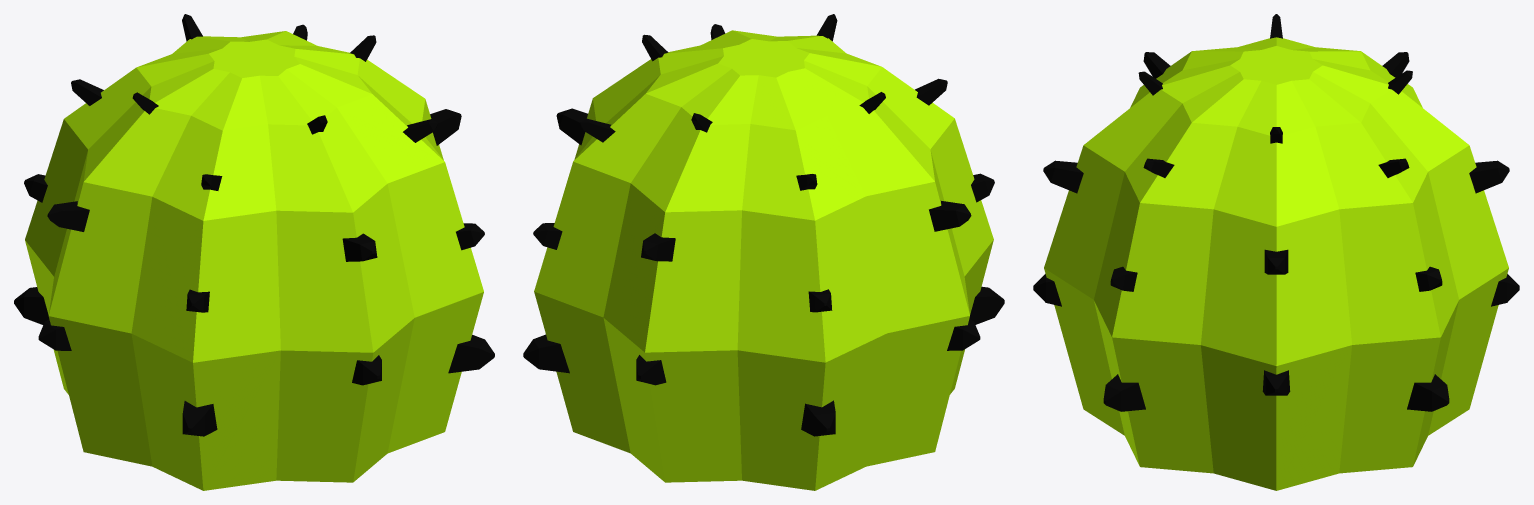
Rendered from Cardon06_00Brazos_Sin_Flor.fbx.
The picture shows the model from 3 angles, left to right: view 1: azimuth 30°, elevation 25°; view 2: azimuth 150°, elevation 25°; view 3: azimuth 270°, elevation 25°; orthographic projection. The views are drawn at different scales.
Parts seen in each view (by area): view 1: Cactus, Espinas; view 2: Cactus, Espinas; view 3: Cactus, Espinas.
Boxes of the visible parts, box(x1,y1,x2,y2) form: Cactus: box(25, 31, 483, 490); Espinas: box(14, 14, 494, 436); Cactus: box(534, 30, 993, 490); Espinas: box(523, 14, 1004, 436); Cactus: box(1044, 37, 1508, 490); Espinas: box(1033, 14, 1519, 411).
Size of the model in its own units: 47.77 by 37.31 by 47.77.
